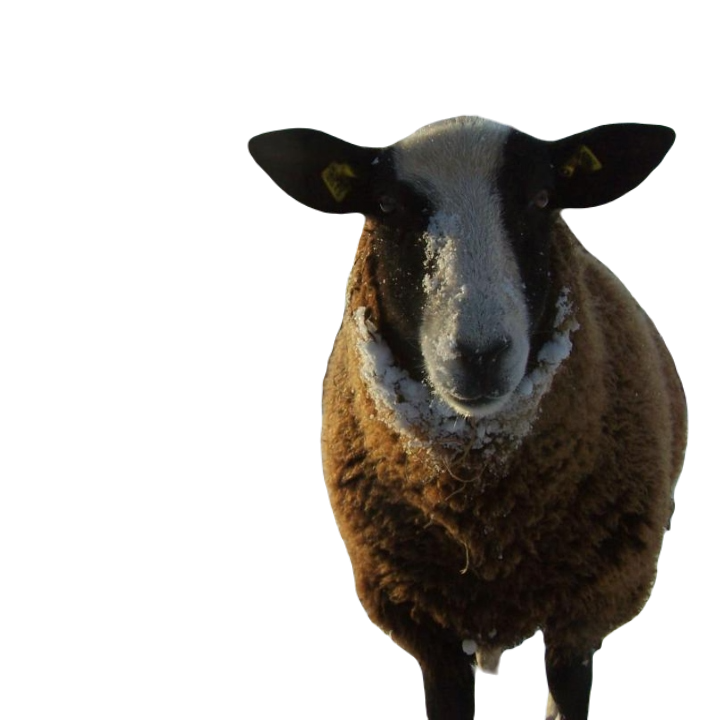Sheep: (243, 108, 697, 719)
